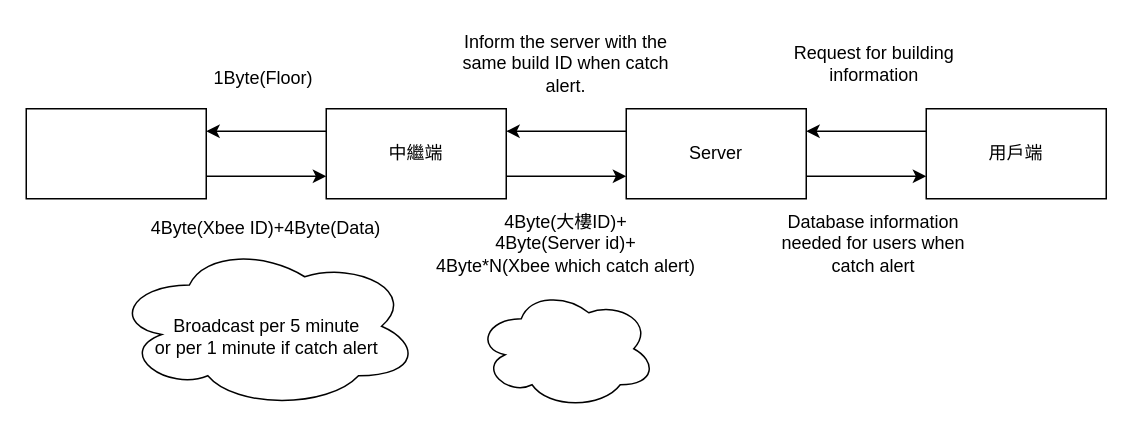
The diagram is 1133 pixels wide and 435 high, and some of its shapes have lost their labels. Each missing label, with the box of its shape:
handshake every 8 hours: (475, 287, 656, 409)
終端: (25, 107, 206, 199)
